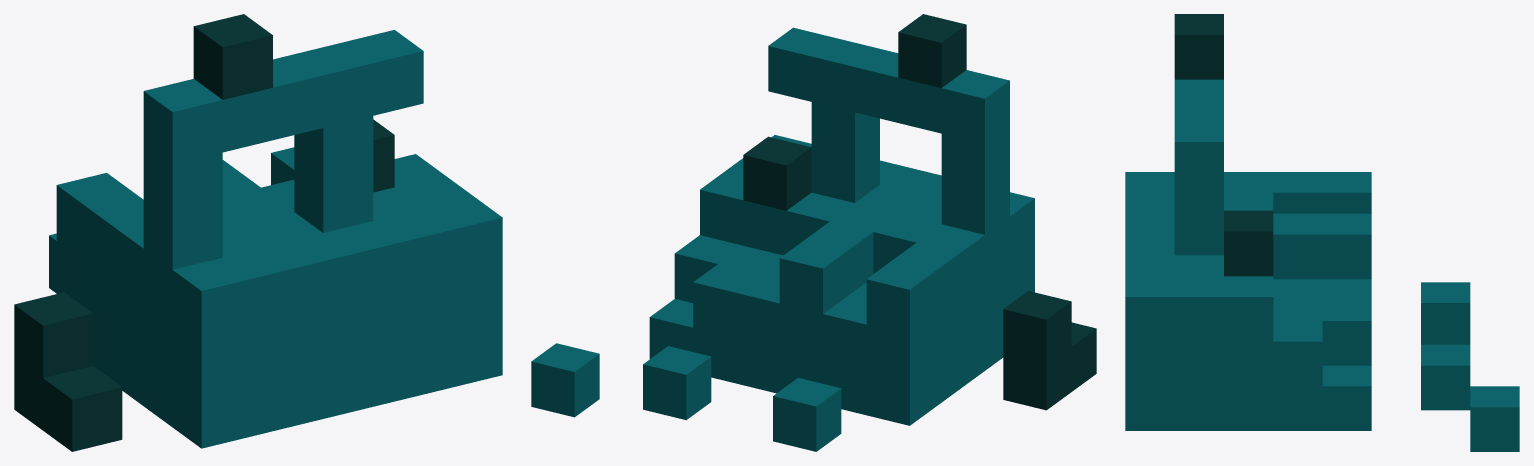
Rendered from rock6.obj.
3 views of the same model, side by side, from view 1: azimuth 30°, elevation 25°; view 2: azimuth 150°, elevation 25°; view 3: azimuth 270°, elevation 25° (orthographic). The views are drawn at different scales.
Bounding box in the file's own units: 0.9 × 0.7 × 0.8.
1 material, 1 textured.
